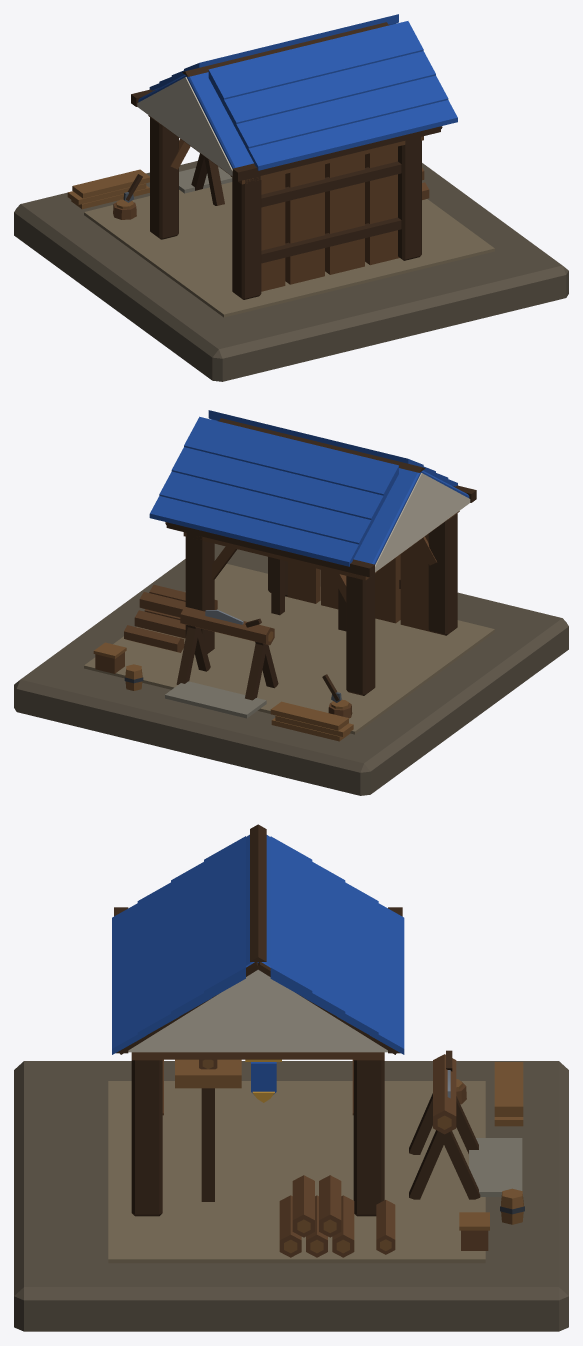
File: 伐木场_1星.glb
The picture shows the model from 3 angles, top to bottom: view 1: azimuth 30°, elevation 25°; view 2: azimuth 150°, elevation 25°; view 3: azimuth 270°, elevation 25°; orthographic projection. The views are drawn at different scales.
Parts seen in each view (by area): view 1: 伐木场_1星; view 2: 伐木场_1星; view 3: 伐木场_1星.
Part boxes in pixels (x1,y1,x2,y2): 伐木场_1星: [14, 14, 568, 381]; 伐木场_1星: [14, 410, 568, 795]; 伐木场_1星: [14, 824, 568, 1331].
Size of the model in its own units: 1 by 0.6215 by 1.
